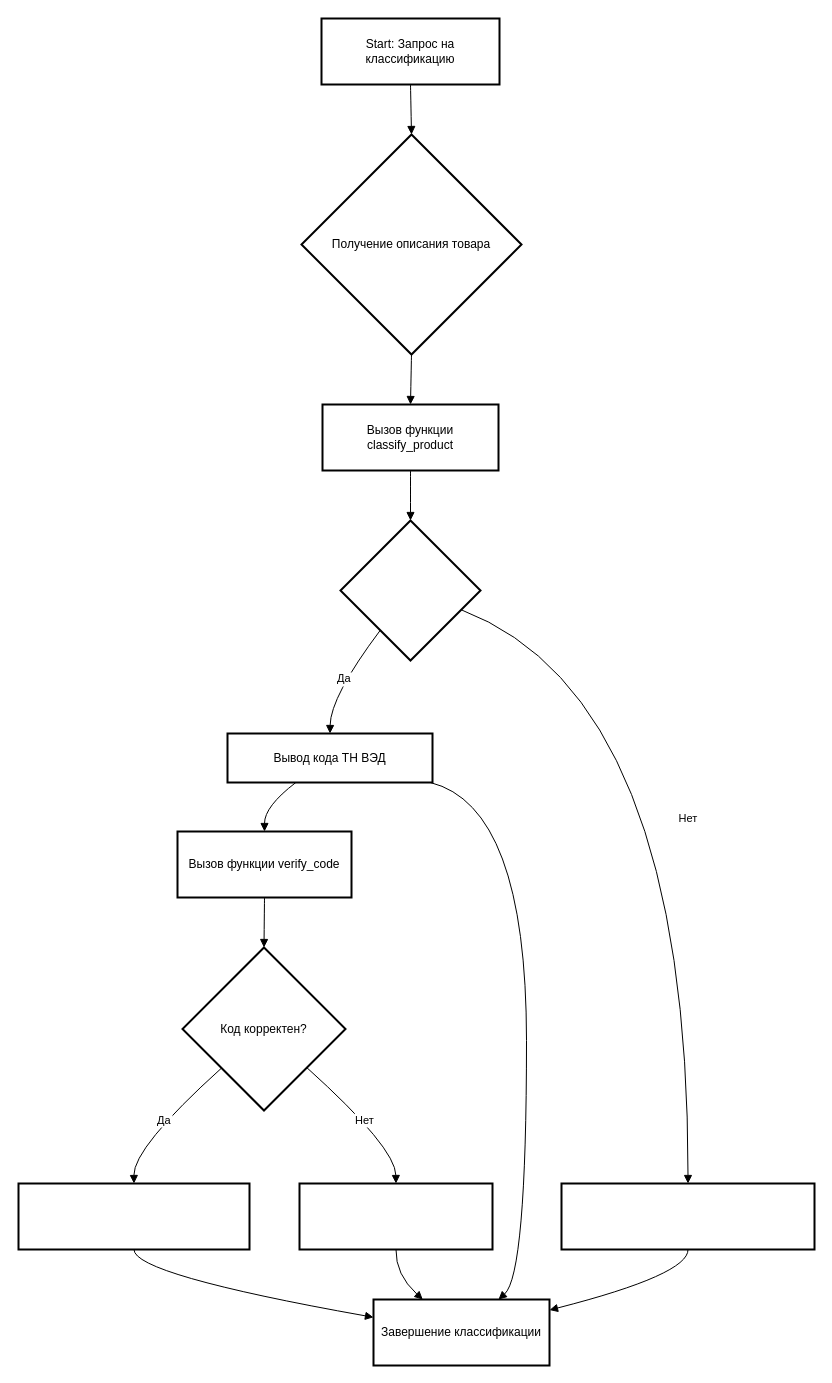
The diagram is 832 pixels wide and 1383 high, and some of its shapes have lost their labels. Here are the shapes that lost their labels. From the top down, the centre of each, then its label:
At pixel 410 590: "Код найден?".
At pixel 133 1216: "Вывод сообщения \Код корректен\".
At pixel 395 1216: "Вывод сообщения \Ошибка в коде\".
At pixel 687 1216: "Вывод сообщения \Код не найден\".
